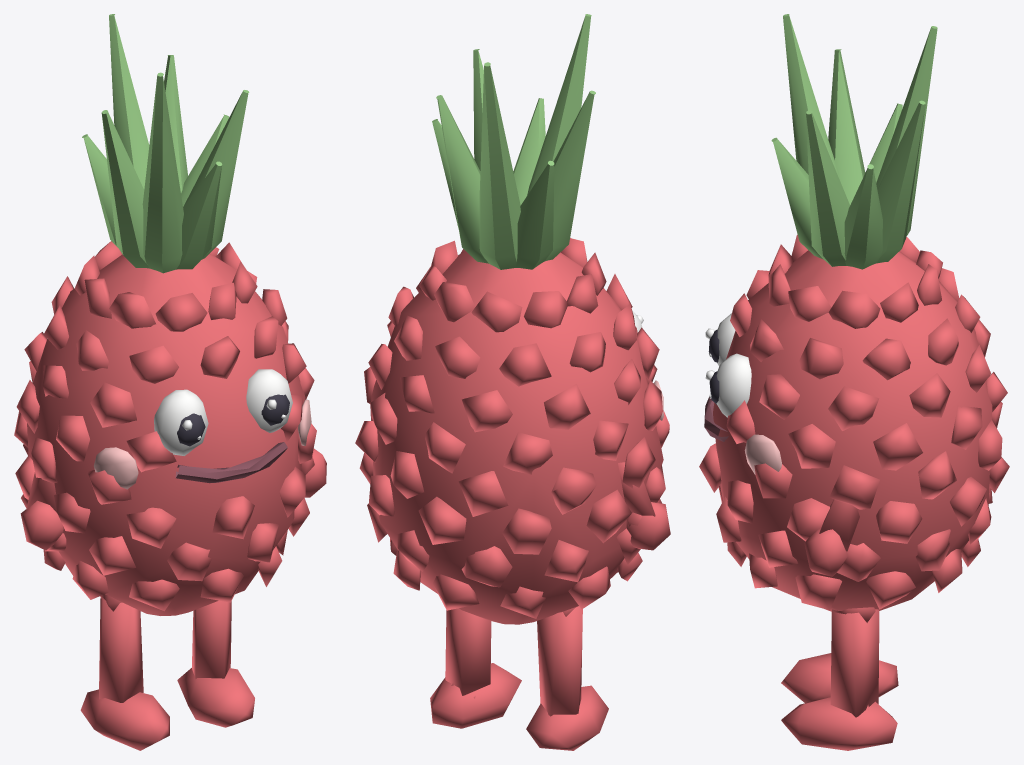
Rendered from Pineapple.fbx.
The picture shows the model from 3 angles, left to right: view 1: azimuth 30°, elevation 25°; view 2: azimuth 150°, elevation 25°; view 3: azimuth 270°, elevation 25°; orthographic projection. The views are drawn at different scales.
Parts seen in each view (by area): view 1: EX_Pineapple; view 2: EX_Pineapple; view 3: EX_Pineapple.
Boxes of the visible parts, box(x1,y1,x2,y2) form: EX_Pineapple: box(14, 14, 326, 750); EX_Pineapple: box(355, 14, 670, 750); EX_Pineapple: box(699, 14, 1009, 750).
Size of the model in its own units: 111 by 250 by 102.
